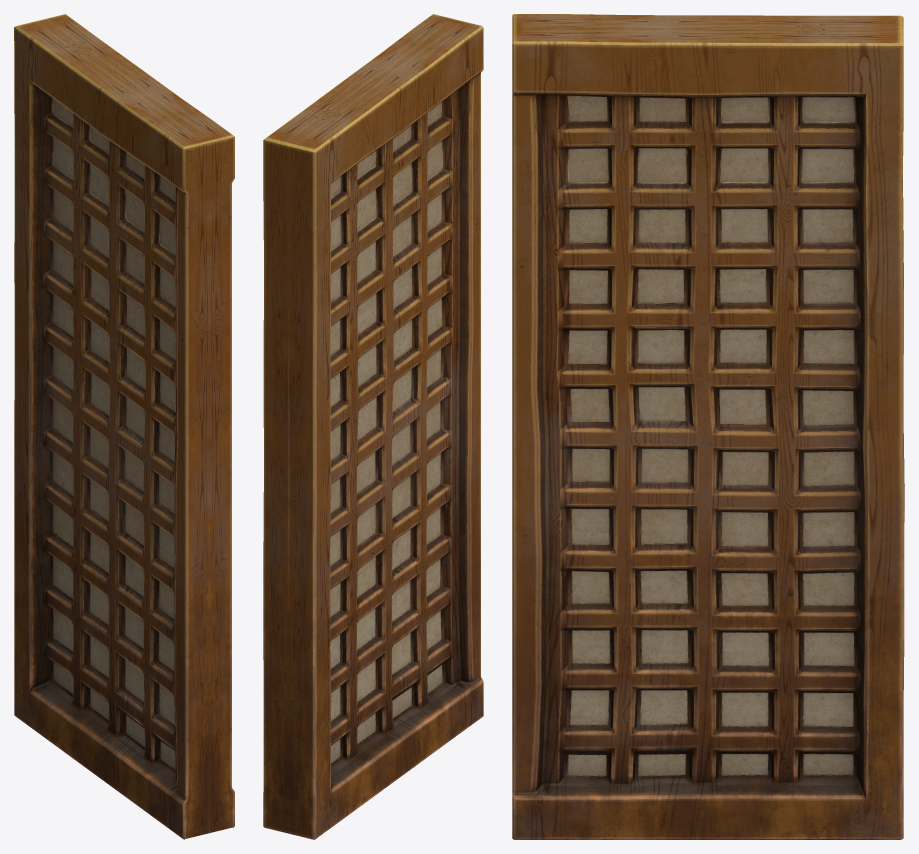
The model's file is SM_Door2.glb.
3 renders of one model, left to right at view 1: azimuth 30°, elevation 25°; view 2: azimuth 150°, elevation 25°; view 3: azimuth 270°, elevation 25°, orthographic. The views are drawn at different scales.
Parts seen in each view (by area): view 1: SM_Door2_LOD0; view 2: SM_Door2_LOD0; view 3: SM_Door2_LOD0.
Boxes of the visible parts, <box> form: SM_Door2_LOD0: <box>14,14,234,839</box>; SM_Door2_LOD0: <box>263,14,483,839</box>; SM_Door2_LOD0: <box>512,14,904,839</box>.
Bounding box in the file's own units: 0.1353 × 1.72 × 0.7662.
Materials: 1 (1 with a texture image).
